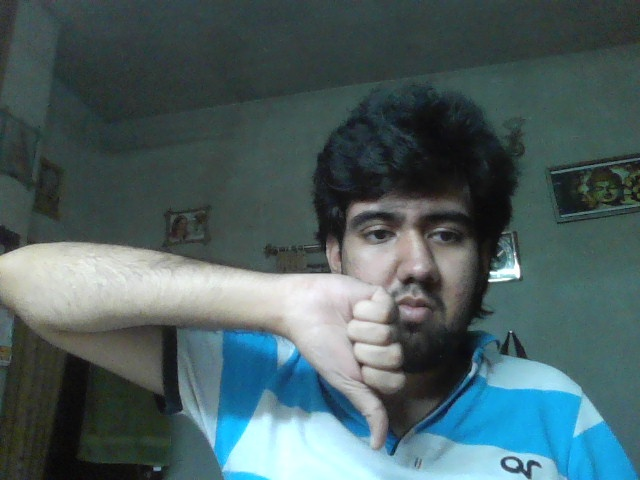NotOk: (297, 275, 406, 453)
